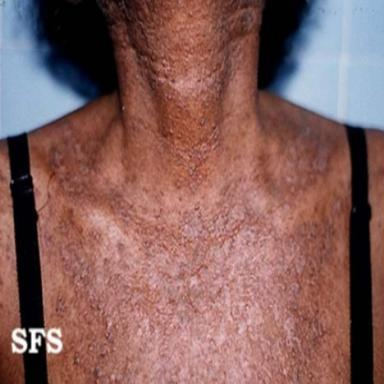Darier_s-Disease: (39, 0, 350, 384)
